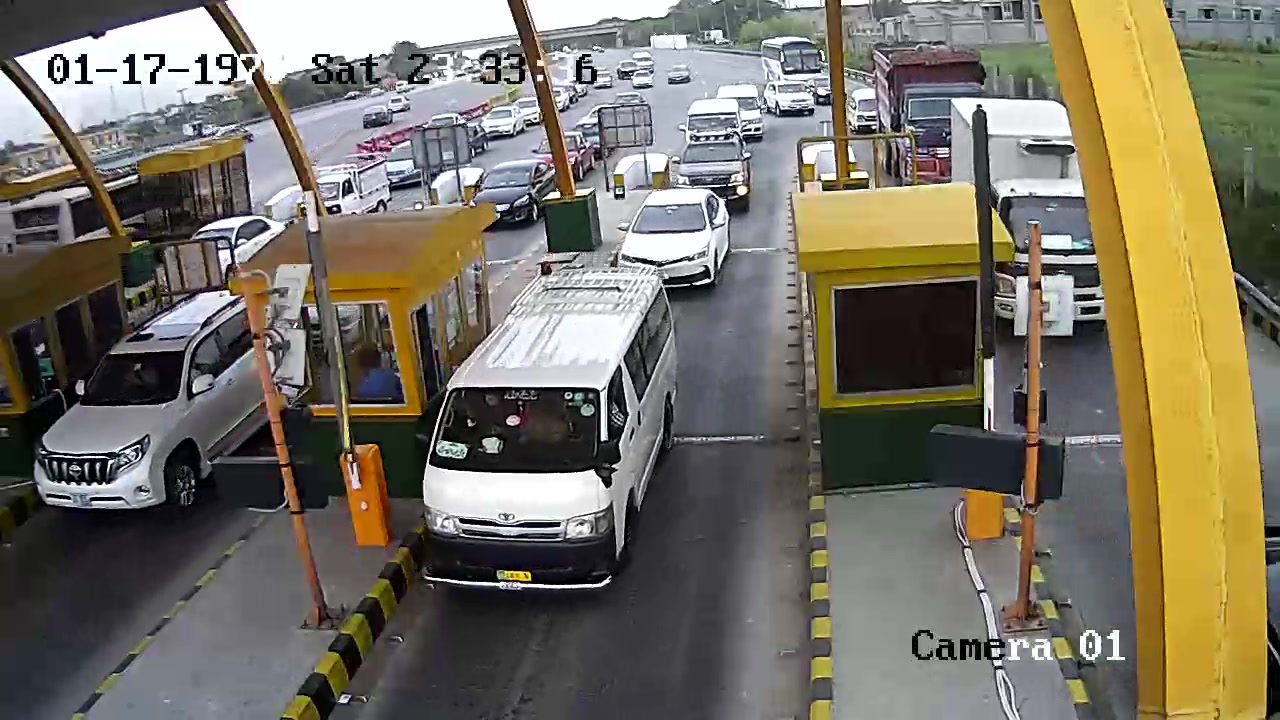F3: (417, 266, 677, 590)
